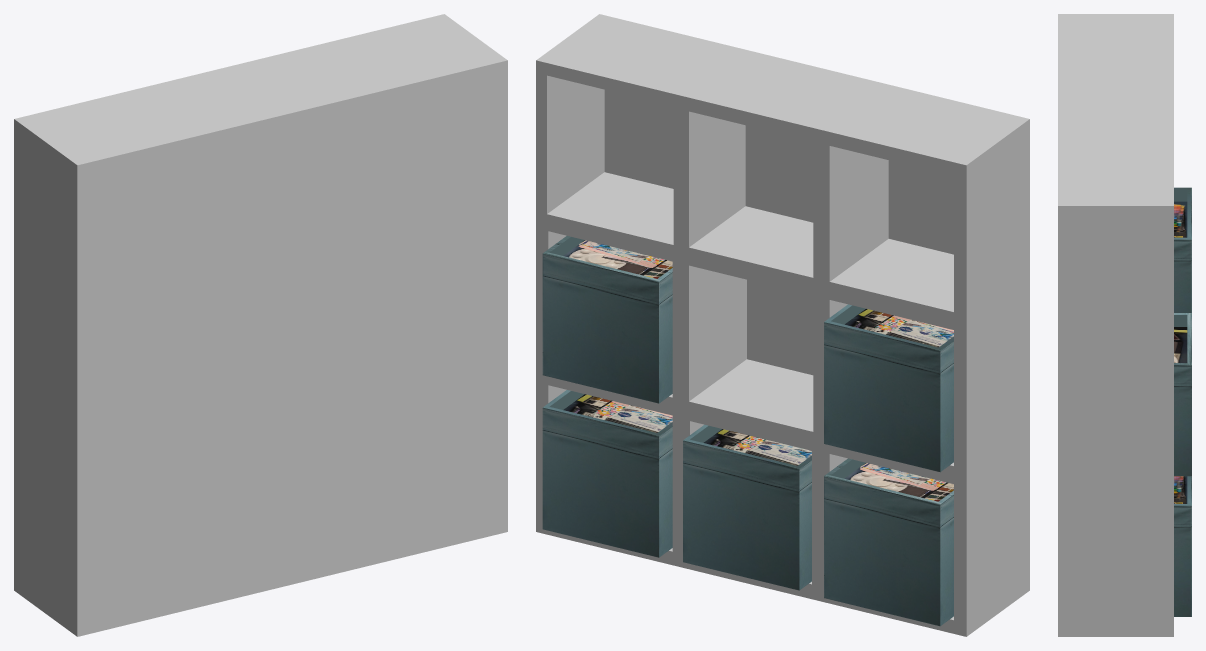
File: Bookshelf1.fbx
The picture shows the model from 3 angles, left to right: view 1: azimuth 30°, elevation 25°; view 2: azimuth 150°, elevation 25°; view 3: azimuth 270°, elevation 25°; orthographic projection. The views are drawn at different scales.
Visible parts, largest first — view 1: Bookshelf_01_Final1; view 2: Bookshelf_01_Final1, pCube73, pCube74, pCube71, pCube75, pCube72; view 3: Bookshelf_01_Final1, pCube74, pCube73, pCube75.
Boxes of the visible parts, x1,y1,x2,y2 form: Bookshelf_01_Final1: [14, 14, 507, 636]; Bookshelf_01_Final1: [536, 14, 1029, 636]; pCube73: [542, 390, 672, 557]; pCube74: [542, 236, 672, 403]; pCube71: [824, 458, 953, 626]; pCube75: [824, 304, 953, 472]; pCube72: [683, 424, 811, 590]; Bookshelf_01_Final1: [1058, 14, 1173, 636]; pCube74: [1174, 313, 1191, 476]; pCube73: [1174, 476, 1191, 616]; pCube75: [1174, 187, 1191, 312].
Bounding box in the file's own units: 4.37 × 4.57 × 1.28.
2 materials, 1 textured.
